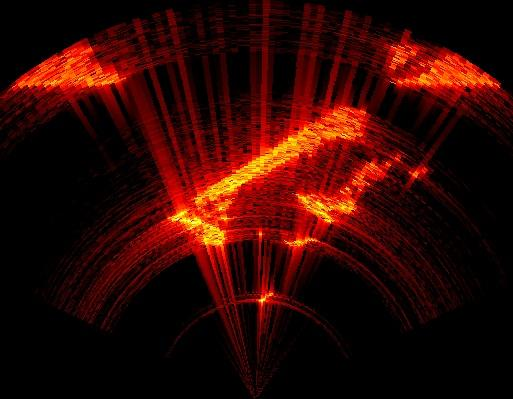shipwreck: (171, 107, 369, 244), (295, 162, 390, 222), (13, 44, 121, 88), (392, 56, 499, 93), (391, 42, 416, 71), (285, 236, 317, 245)
